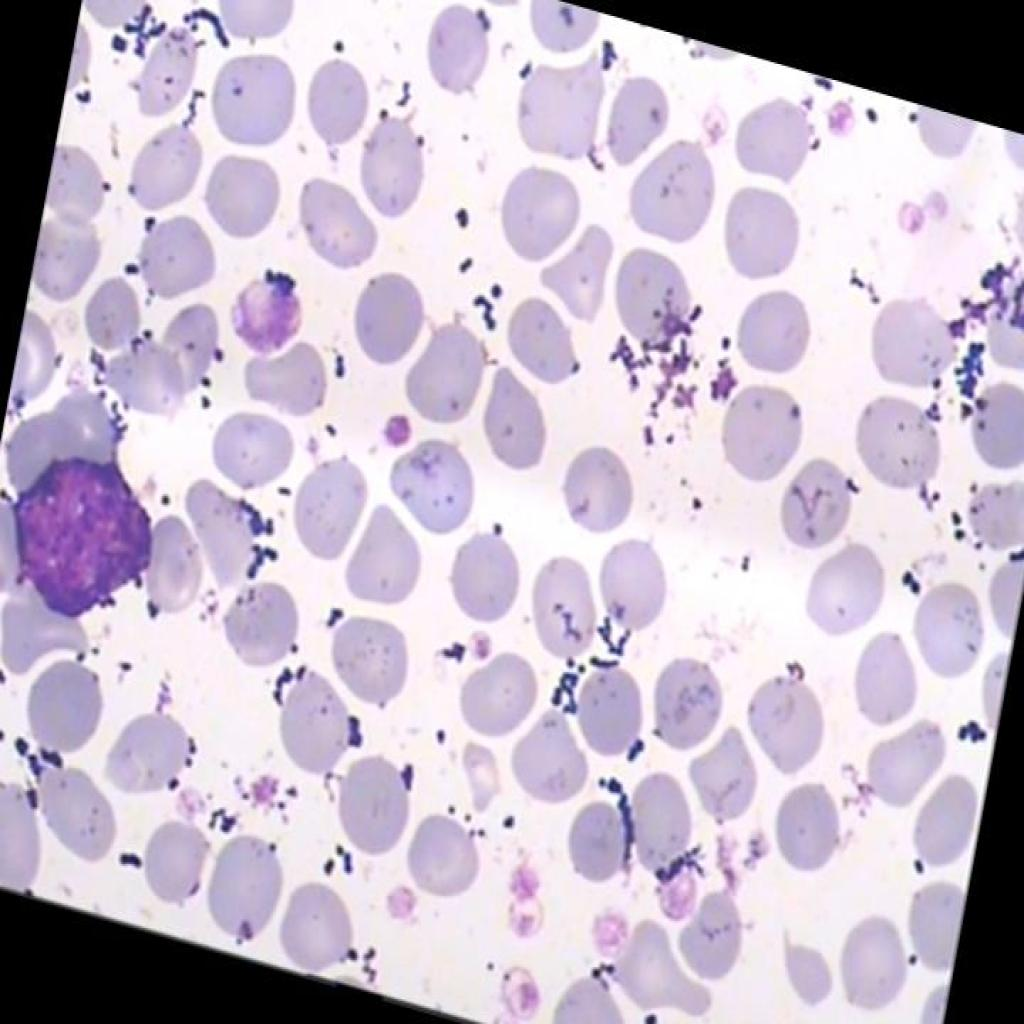Basofil: (0, 427, 176, 649)
Platelet: (804, 82, 860, 148), (500, 852, 548, 910), (240, 756, 284, 816), (371, 404, 417, 458)
